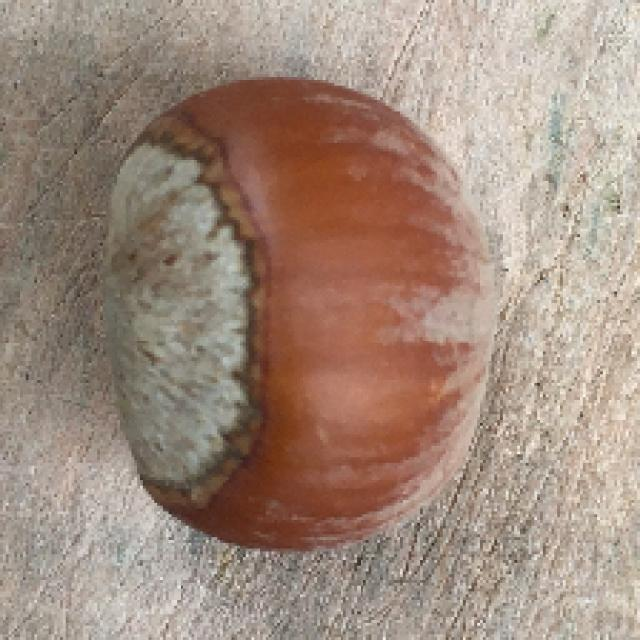qualityHazelnut: (104, 76, 498, 554)
